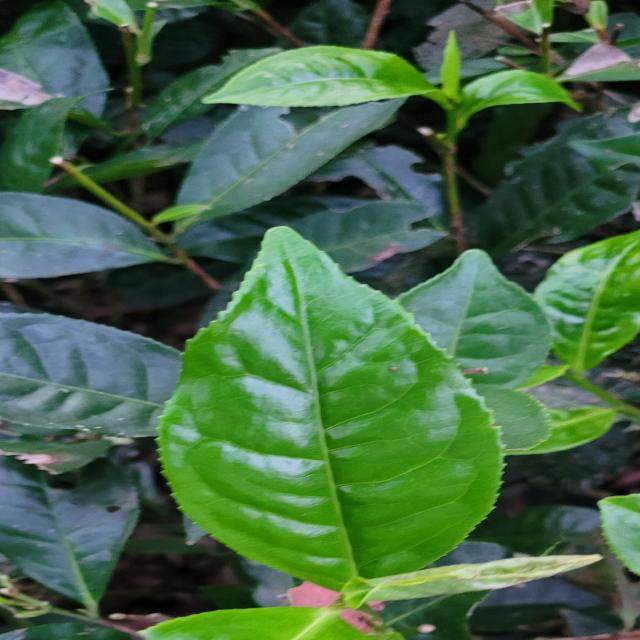Catagory A(1-2 days): (121, 219, 527, 594)
